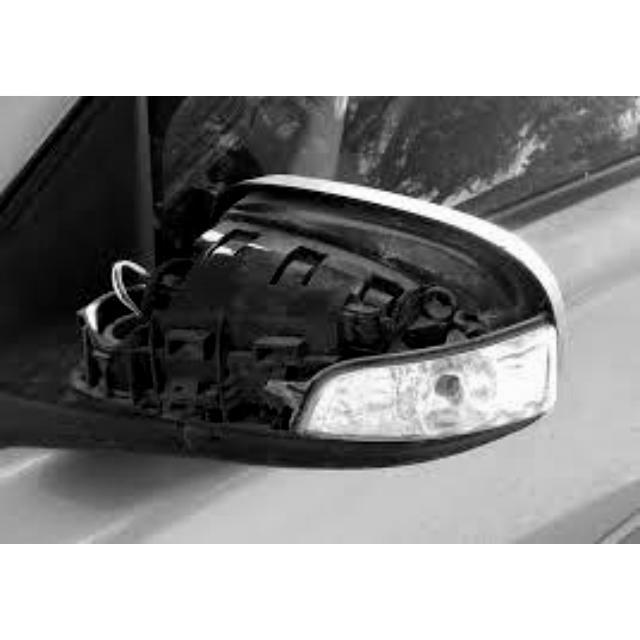Sidemirror-Damage: (70, 163, 585, 499)
